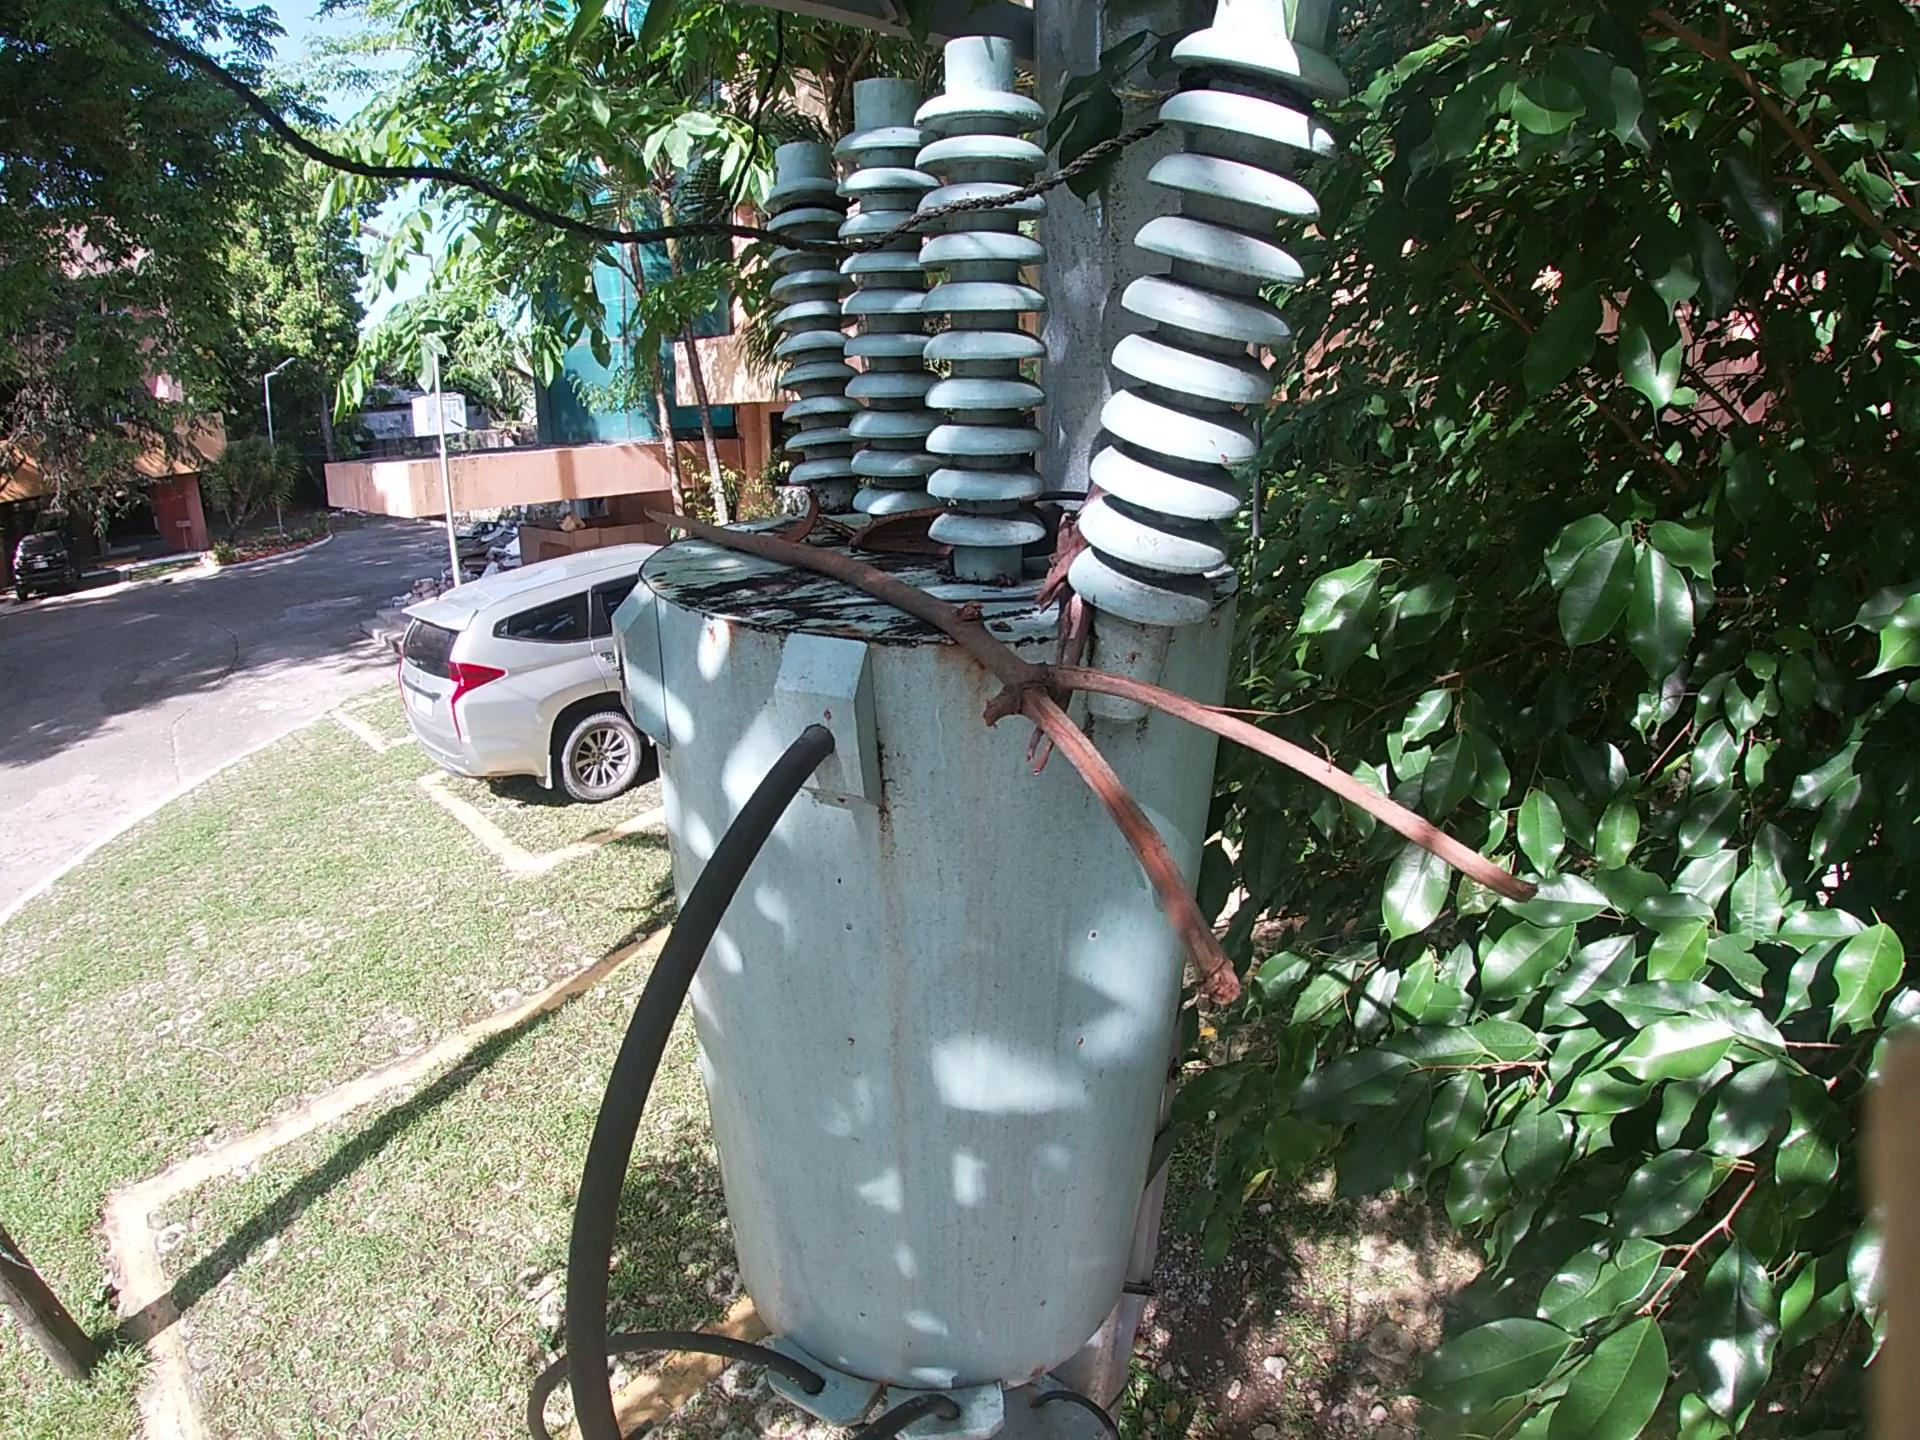mahogany fruit: (848, 517, 946, 564), (780, 484, 827, 537)
tree branch: (649, 511, 1534, 1048), (1043, 511, 1105, 771), (1033, 479, 1093, 511)
